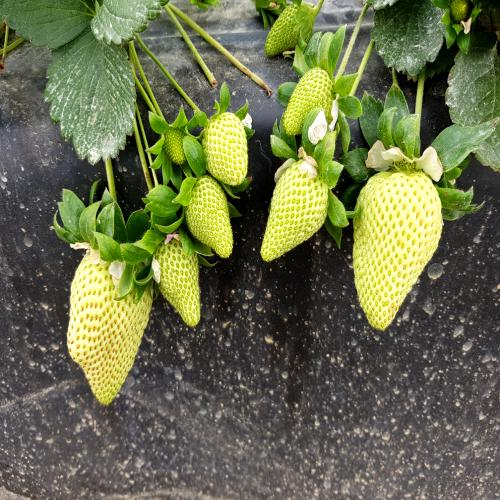unripe: (67, 230, 144, 400), (360, 161, 430, 331), (276, 151, 331, 284), (148, 212, 203, 322), (180, 164, 238, 260), (195, 106, 254, 188), (289, 50, 339, 141)
